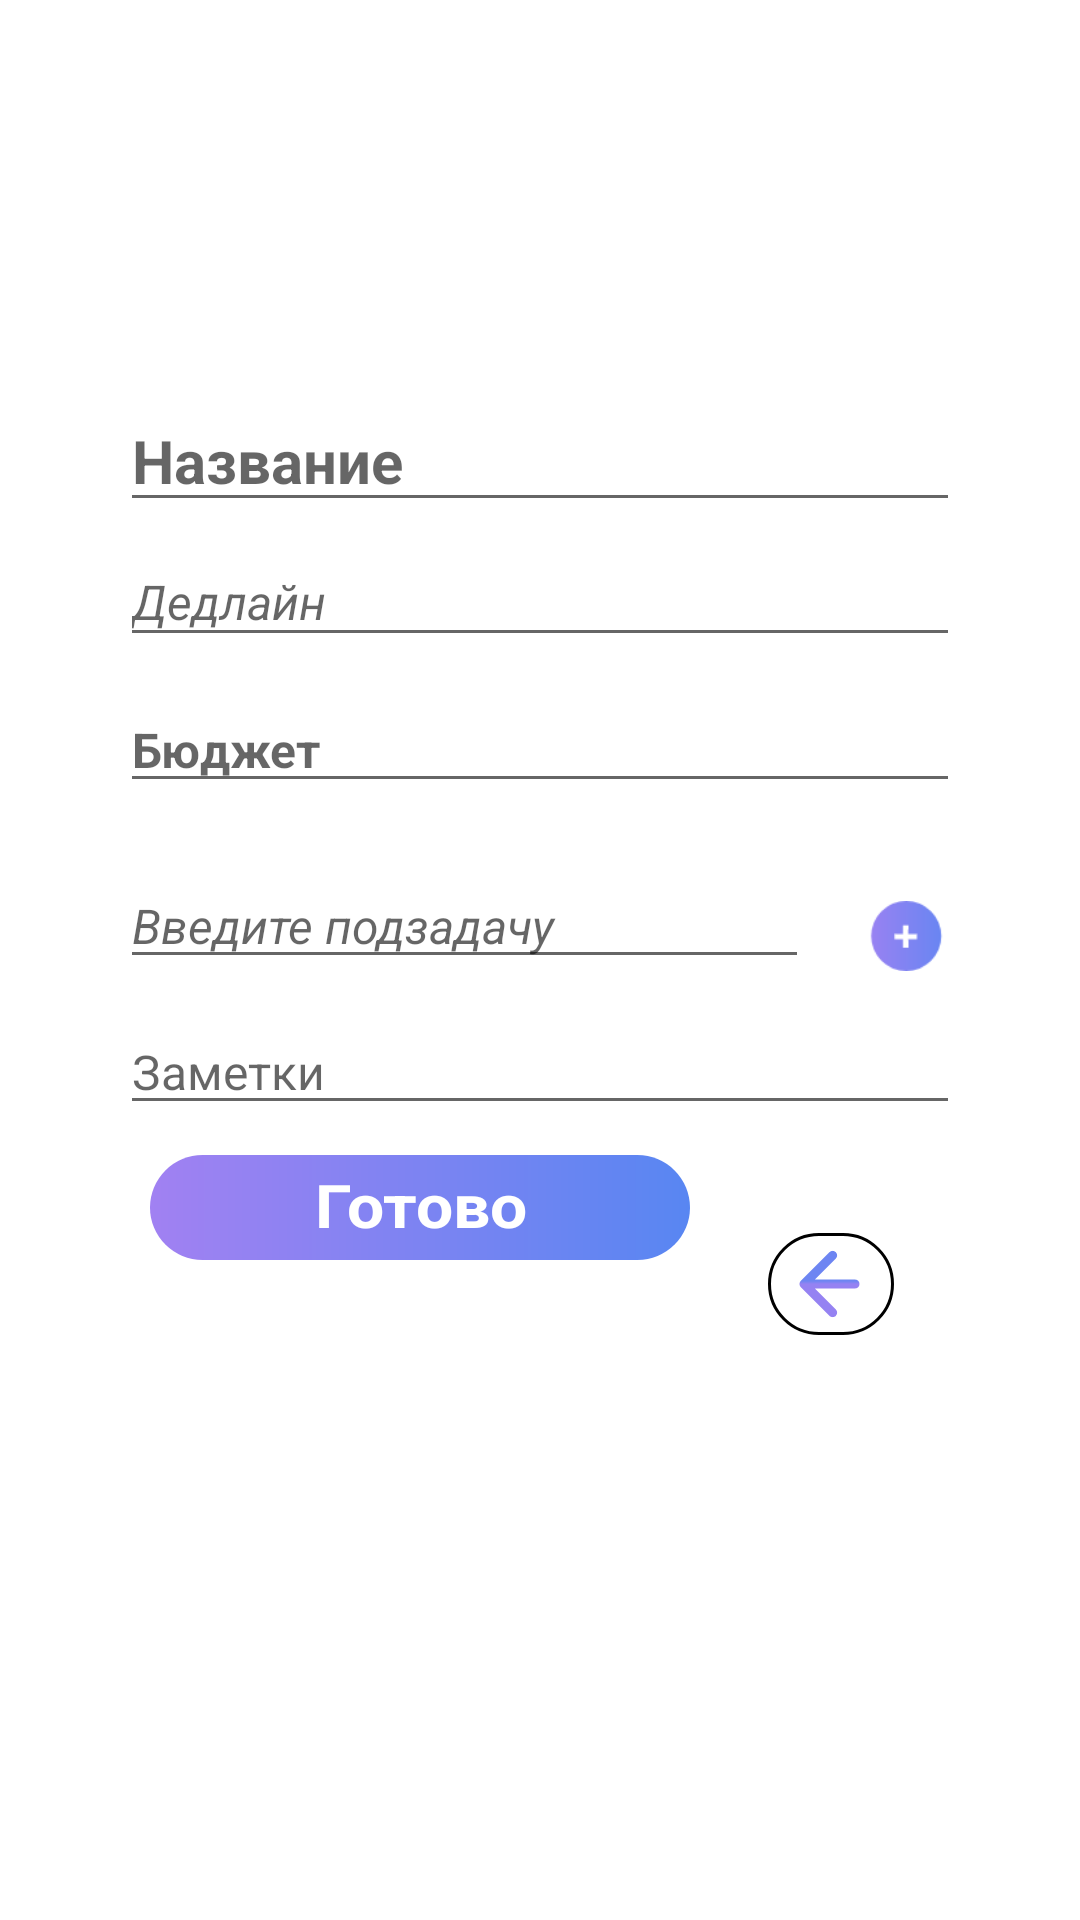

Icons on this 1080w x 1920h Android screen, each with the point to tap as (x,y):
return: (831,1284)
